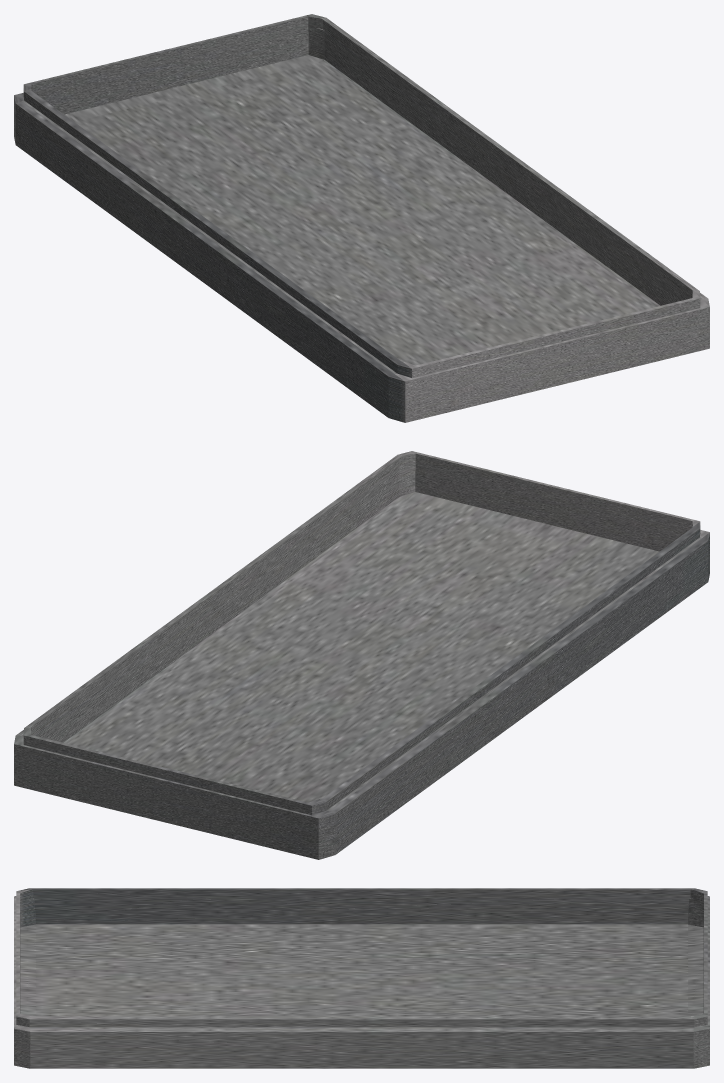
The model's file is hard_plastic_case.glb.
The picture shows the model from 3 angles, top to bottom: view 1: azimuth 30°, elevation 25°; view 2: azimuth 150°, elevation 25°; view 3: azimuth 270°, elevation 25°; orthographic projection. The views are drawn at different scales.
Parts seen in each view (by area): view 1: Cube, Cube.001; view 2: Cube, Cube.001; view 3: Cube, Cube.001.
Boxes of the visible parts, x1,y1,x2,y2 form: Cube: (23,14,700,378); Cube.001: (14,26,709,422); Cube: (23,451,700,815); Cube.001: (14,463,709,859); Cube: (16,888,707,1027); Cube.001: (14,896,709,1068).
Bounding box in the file's own units: 1.14 × 0.1818 × 2.41.
2 materials, 2 textured.
